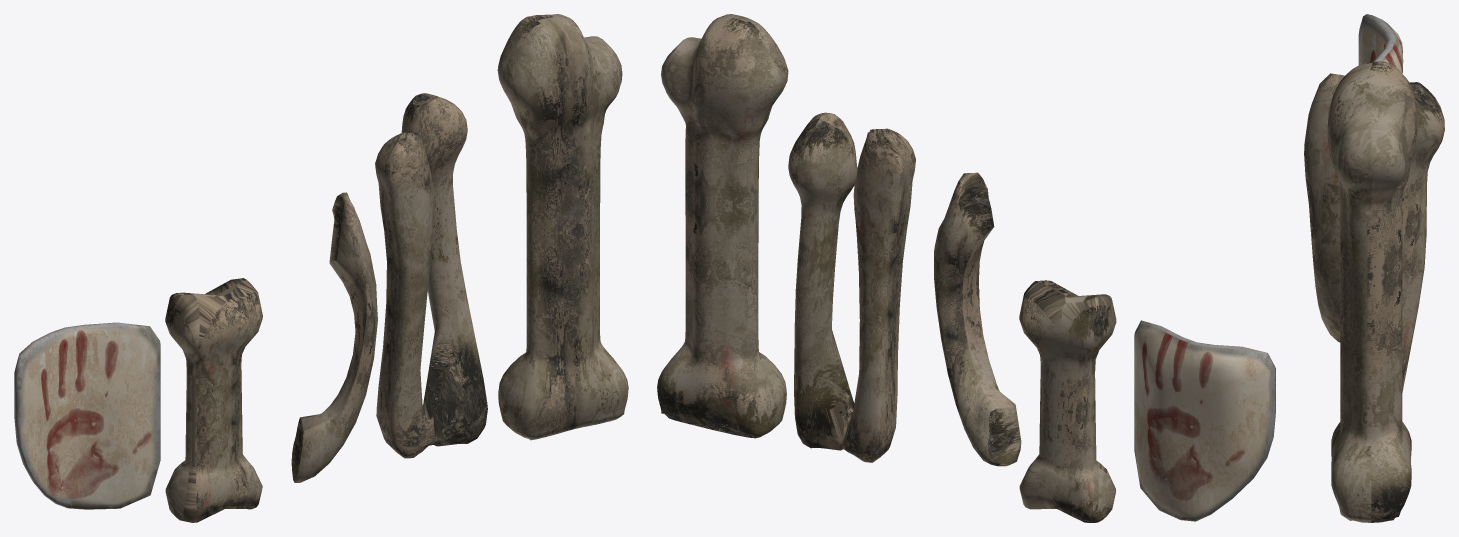
The model's file is BonesFin.fbx.
3 views of the same model, side by side, from view 1: azimuth 30°, elevation 25°; view 2: azimuth 150°, elevation 25°; view 3: azimuth 270°, elevation 25° (orthographic). The views are drawn at different scales.
Parts seen in each view (by area): view 1: Bone4, Bone3, Bone1, pCube1, Bone2; view 2: Bone4, Bone3, Bone1, pCube1, Bone2; view 3: Bone4, Bone2, Bone3, Bone1.
Boxes of the visible parts, x1,y1,x2,y2 form: Bone4: [497, 14, 628, 440]; Bone3: [375, 93, 487, 458]; Bone1: [14, 322, 160, 509]; pCube1: [165, 278, 262, 522]; Bone2: [291, 192, 377, 482]; Bone4: [657, 14, 788, 438]; Bone3: [788, 112, 915, 462]; Bone1: [1134, 320, 1275, 521]; pCube1: [1019, 280, 1116, 522]; Bone2: [934, 172, 1021, 466]; Bone4: [1327, 61, 1417, 522]; Bone2: [1304, 73, 1344, 342]; Bone3: [1402, 82, 1444, 392]; Bone1: [1358, 14, 1403, 73].
Bounding box in the file's own units: 5.16 × 3.36 × 0.9963.
3 materials, 3 textured.
